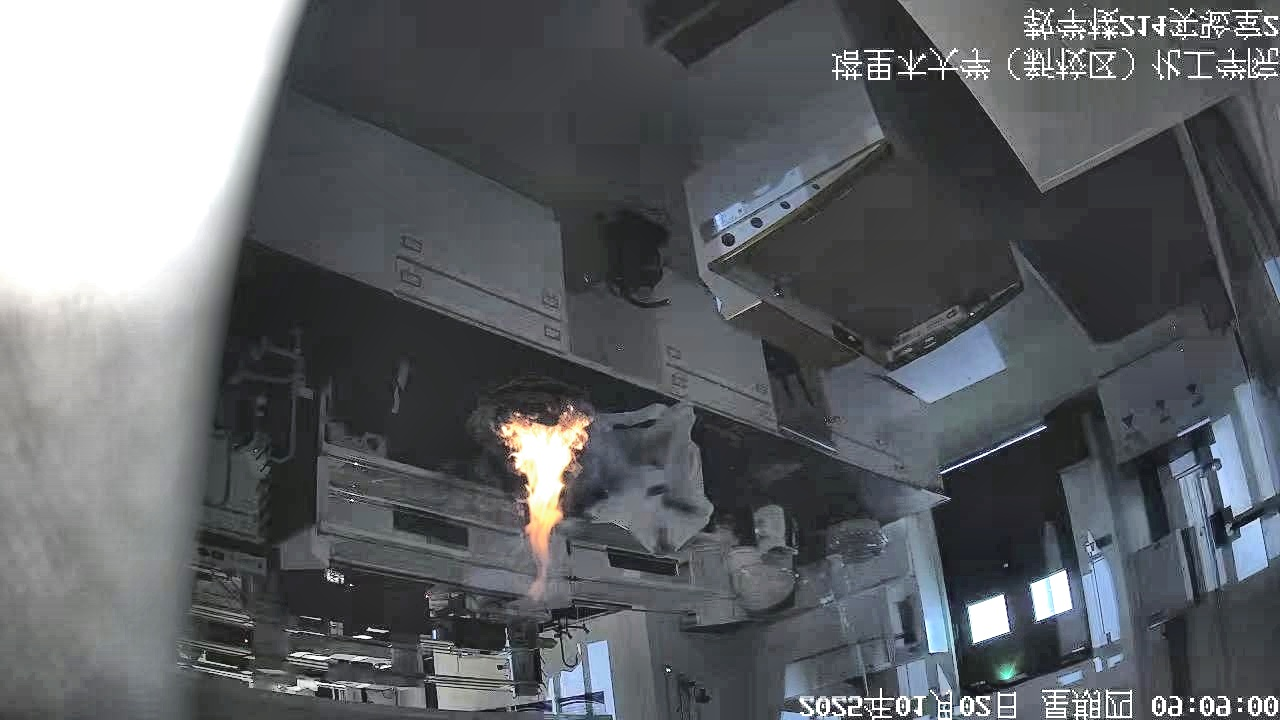fire: (492, 362, 625, 583)
